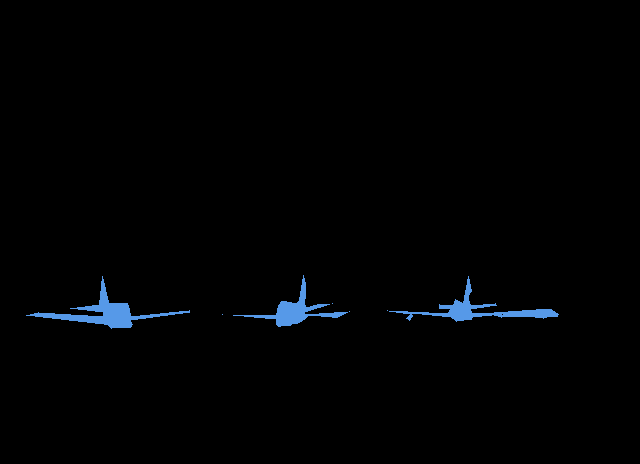Airplane: (26, 276, 189, 329), (222, 275, 349, 326), (387, 276, 511, 322), (494, 309, 558, 318)
